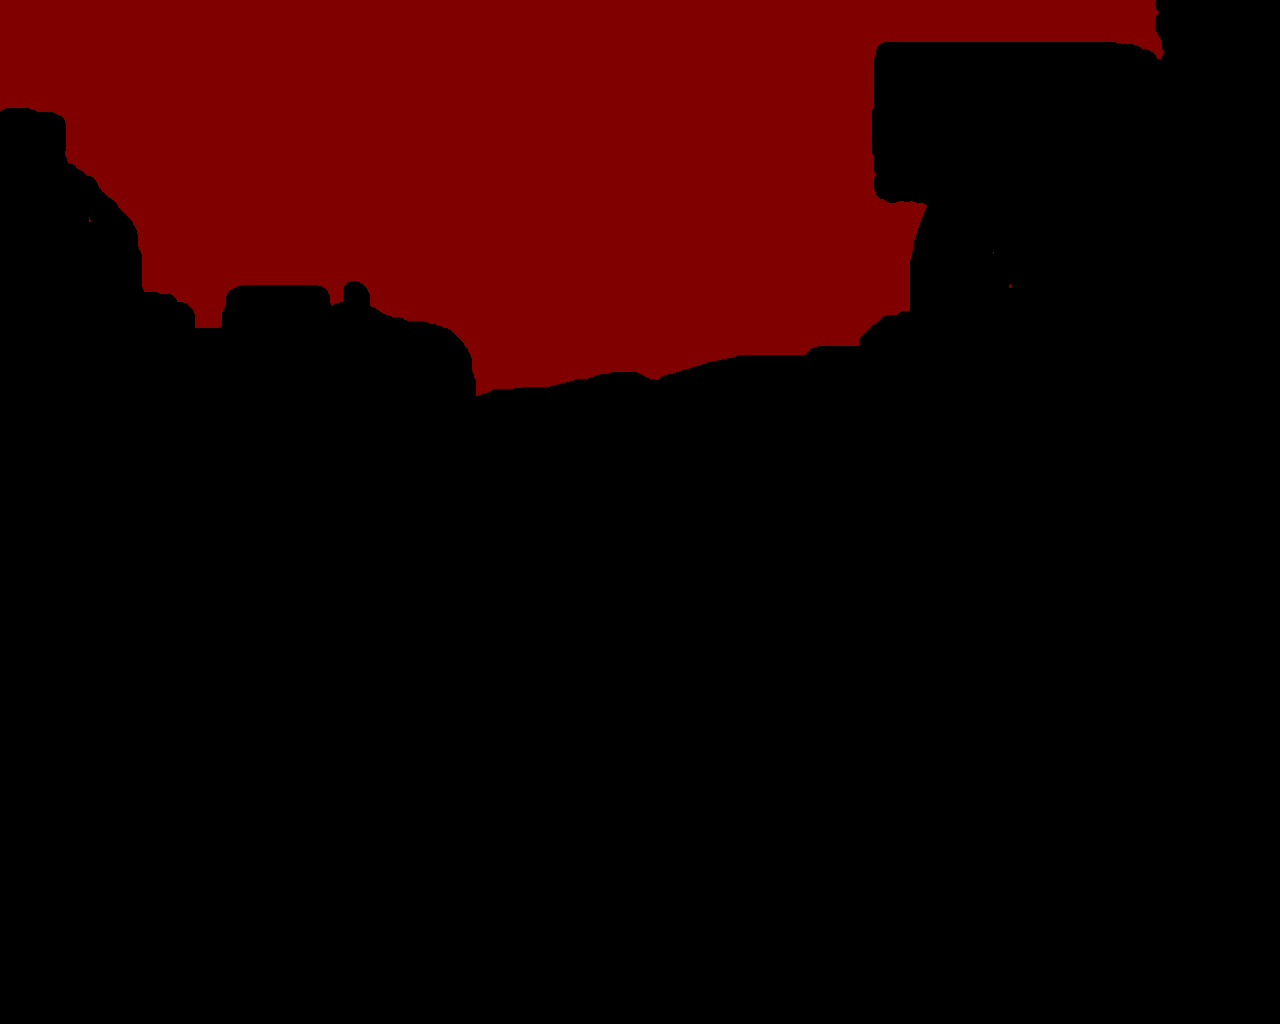Sky: (1, 1, 1163, 396)
